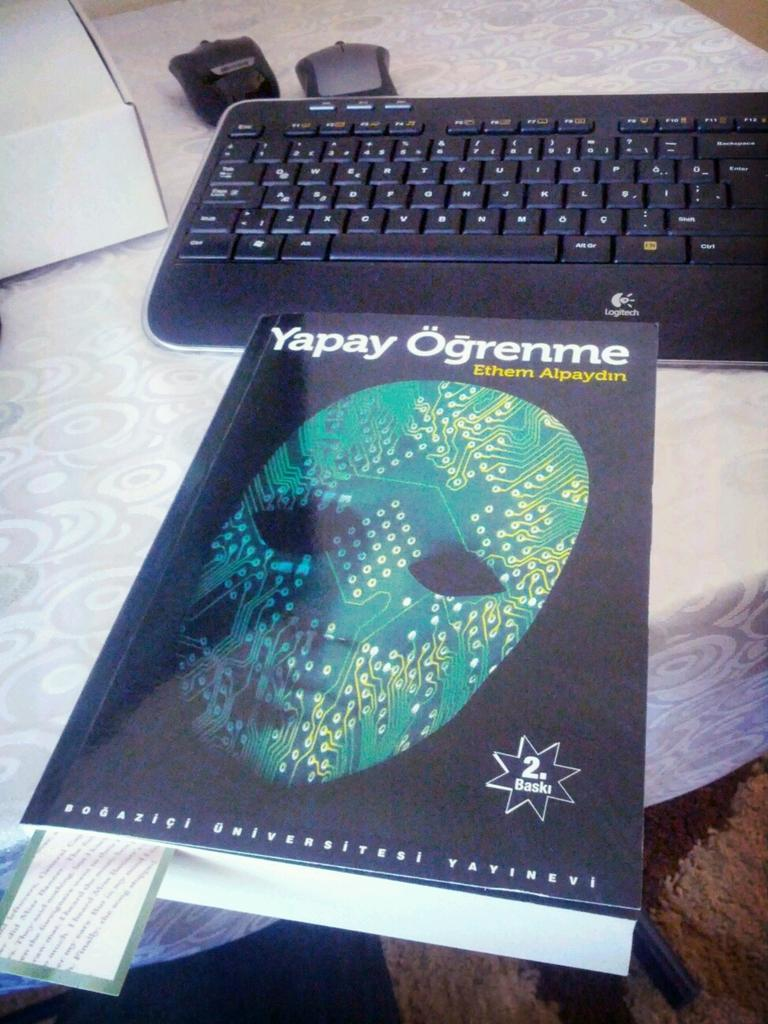Computer-keyboard: (149, 92, 767, 363)
